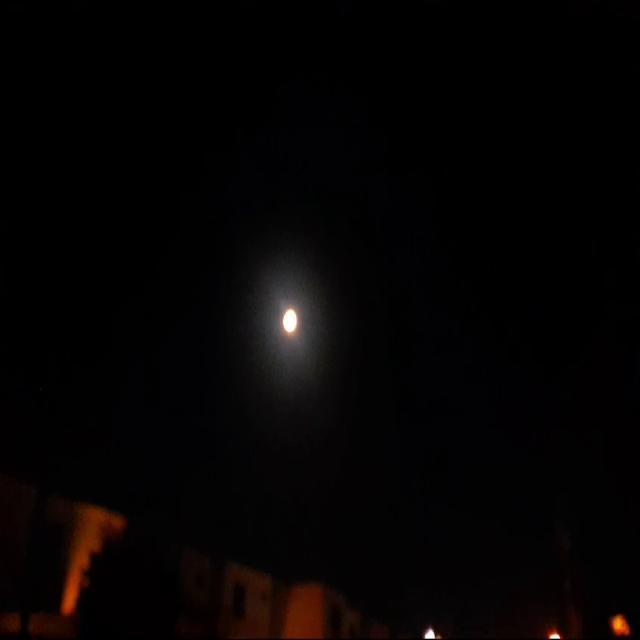moon: (269, 305, 287, 340)
